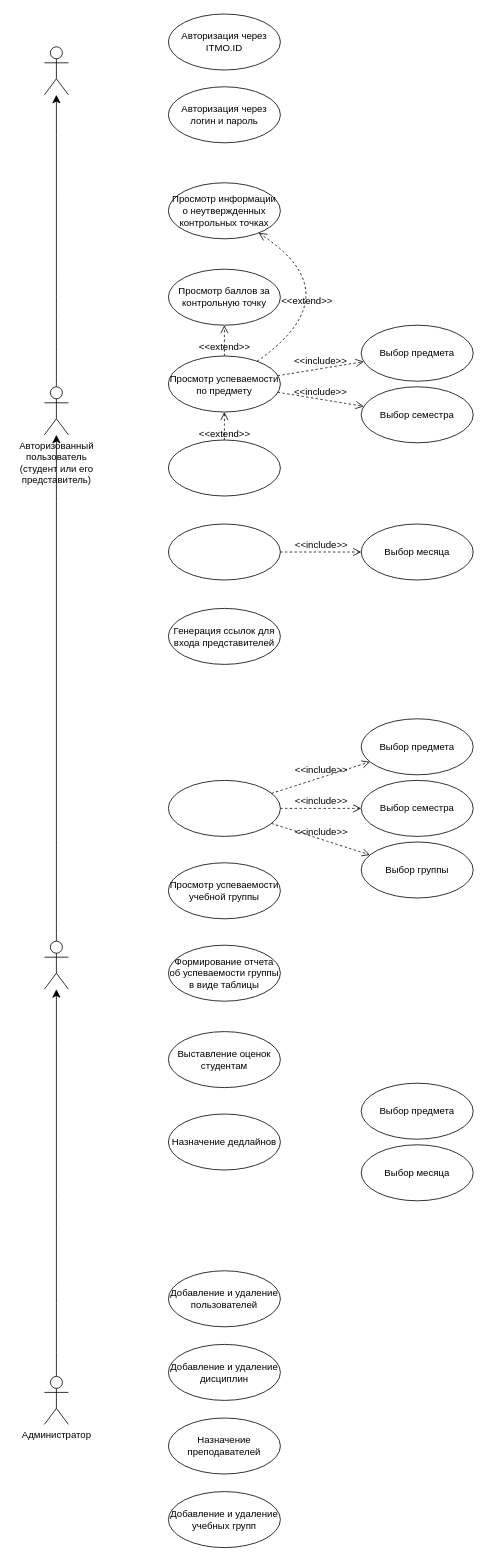
This 487x1562 diagram has some shape labels left out. The box of each missing label's shape, as (x1, y1, x2, y2) in pixels:
Авторизованный пользователь (преподаватель): (44, 940, 68, 989)
Неавторизованный пользователь: (44, 46, 68, 95)
Просмотр дедлайнов: (168, 523, 280, 580)
Просмотр состава учебной группы: (168, 780, 280, 836)
Формирование отчета об успеваемости в виде таблицы: (168, 439, 280, 496)
